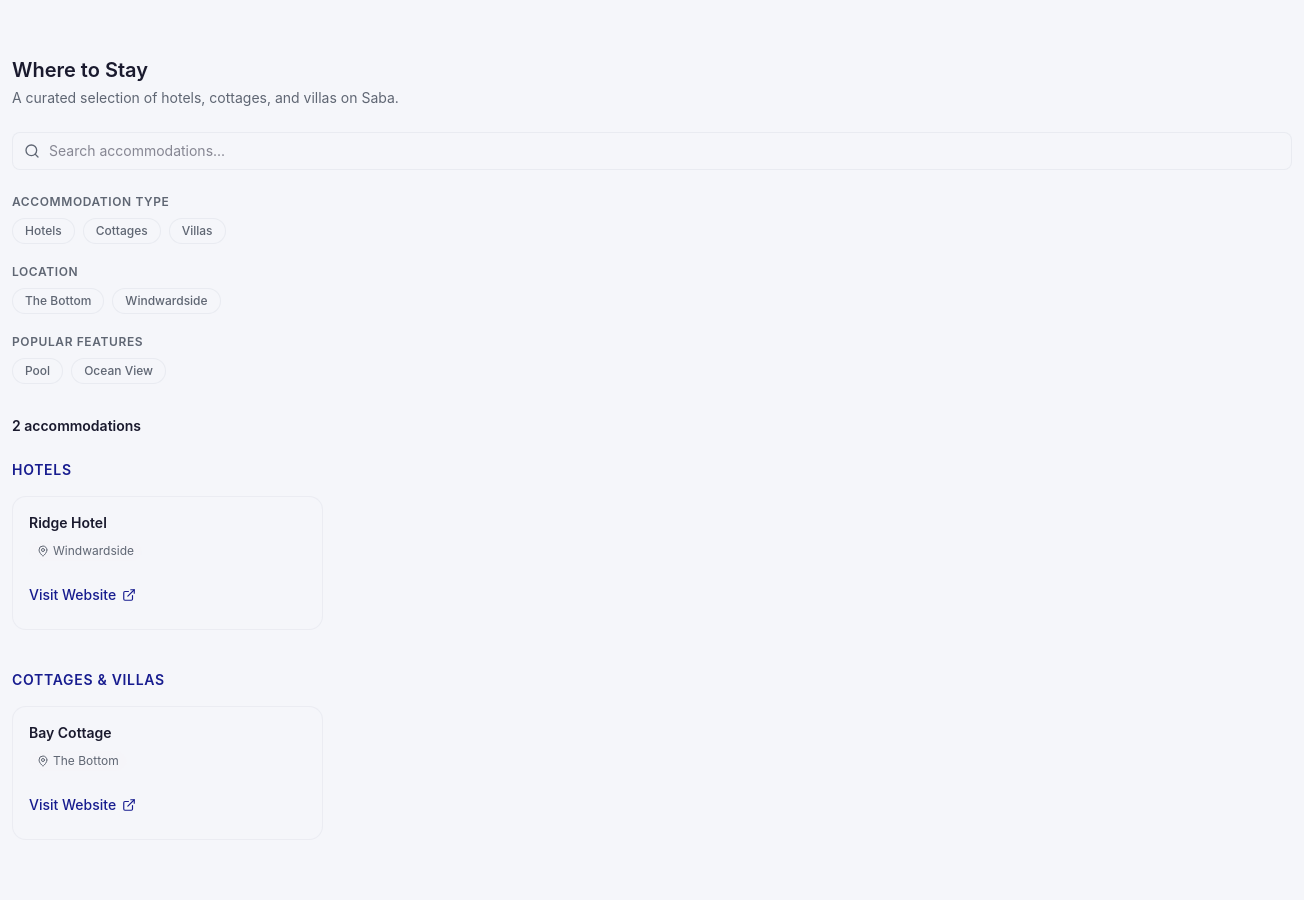
Test case: announces filter pills as toggles, not as current navigation items
Click the button "Pool": (38, 371) [12,358,63,384]
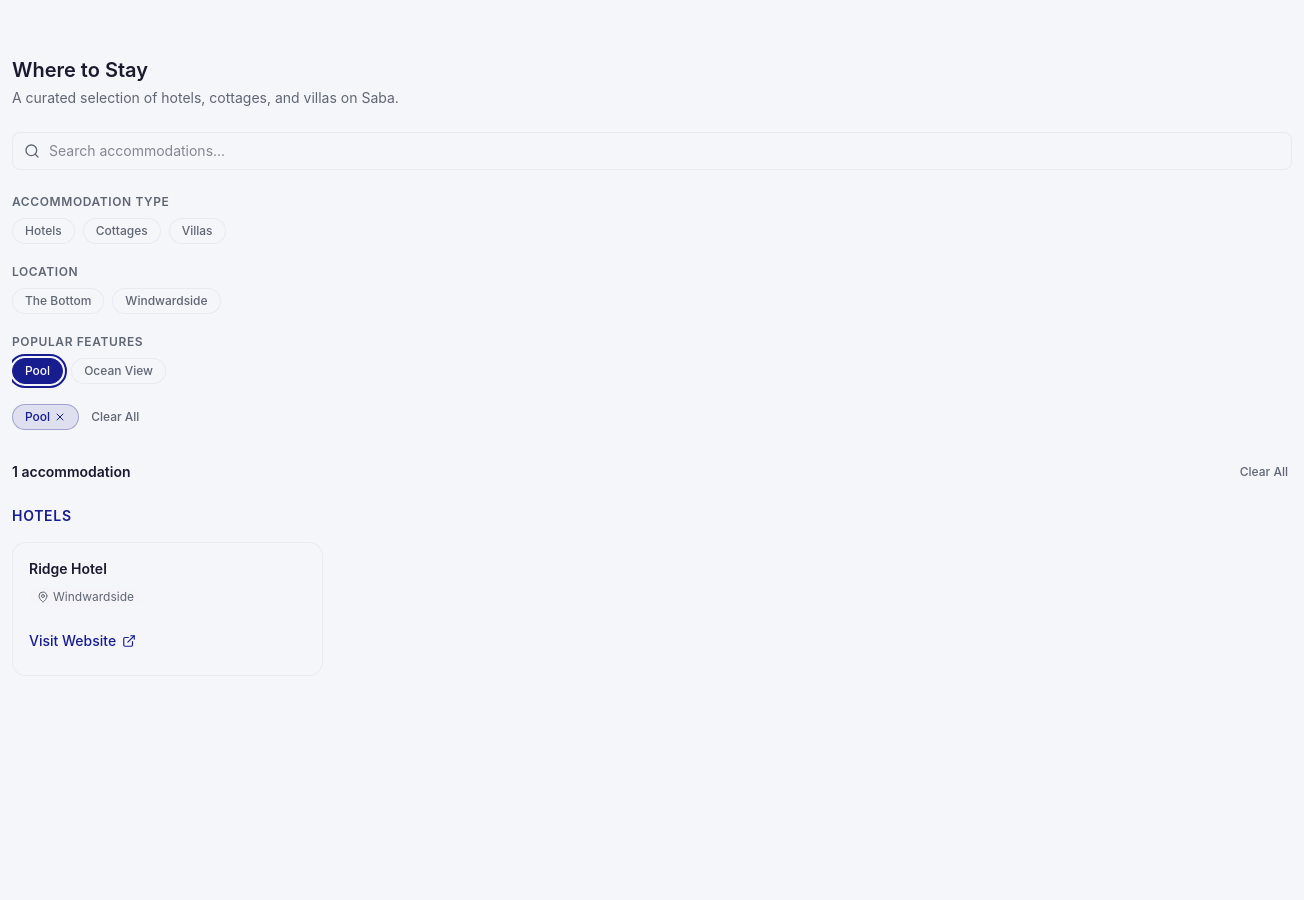
Result: the heading "1 accommodation" is shown at [12,462,130,482]
Result: the heading "Bay Cottage" is gone
